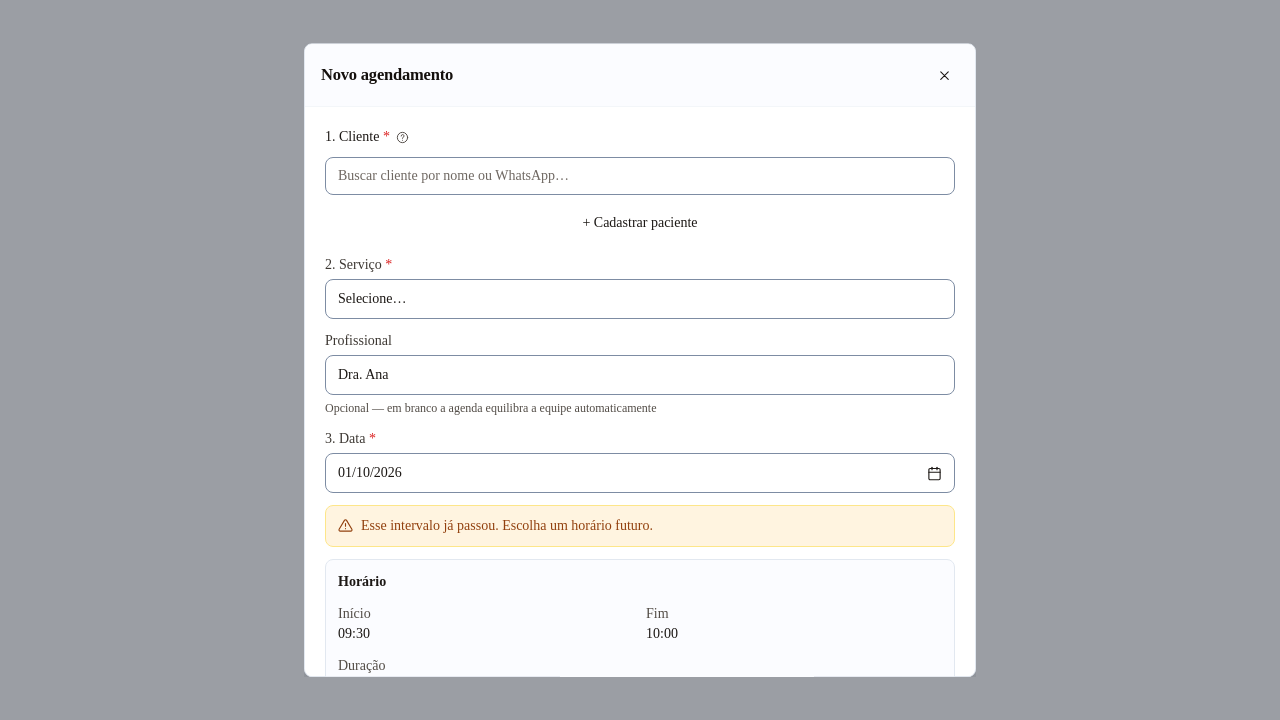
6 · viewport estreita: cadastro assume a faixa e o agendamento volta preservado › abrir o cadastro mantém o agendamento montado; fechar preserva data/hora/serviço/profissional
What coordinates should you click on to do the following:
click the dropdown labelled "2. Serviço *"
I would click on:
 (640, 299)
Its box is [338,280,942,318].
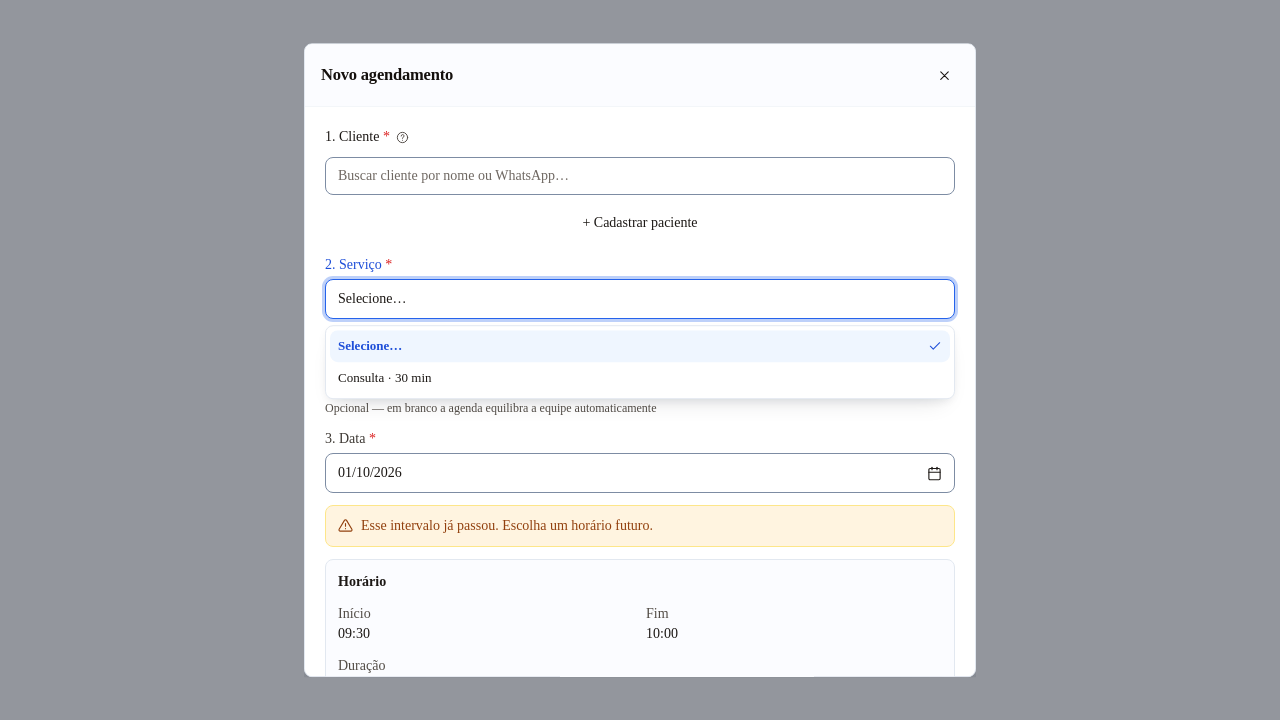
What coordinates should you click on to do the following:
click the option "Consulta · 30 min"
I would click on:
 (385, 378)
Its box is [330,362,950,394].
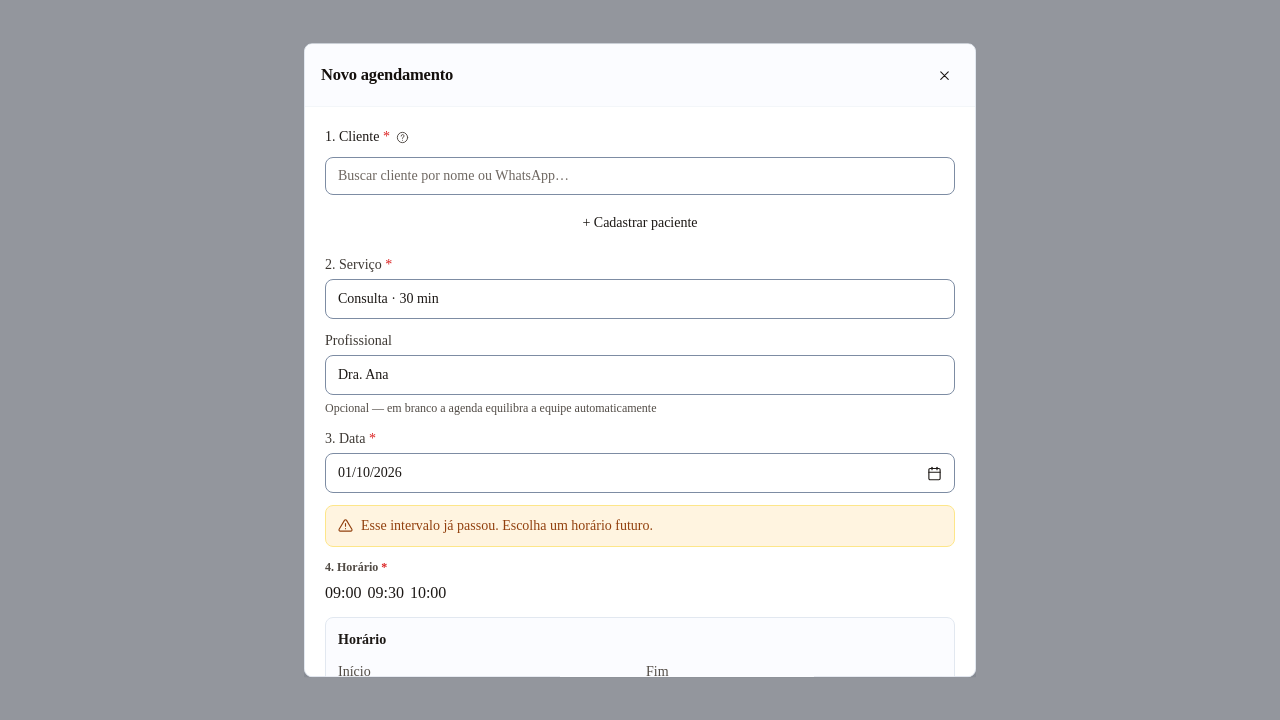
Expected: the dropdown labelled "Profissional" is shown, [338,356,942,394]
# Abre o cadastro DENTRO do mesmo overlay.
What coordinates should you click on to do the following:
click the button "+ Cadastrar paciente"
I would click on:
 (640, 223)
Its box is [325,203,955,243].
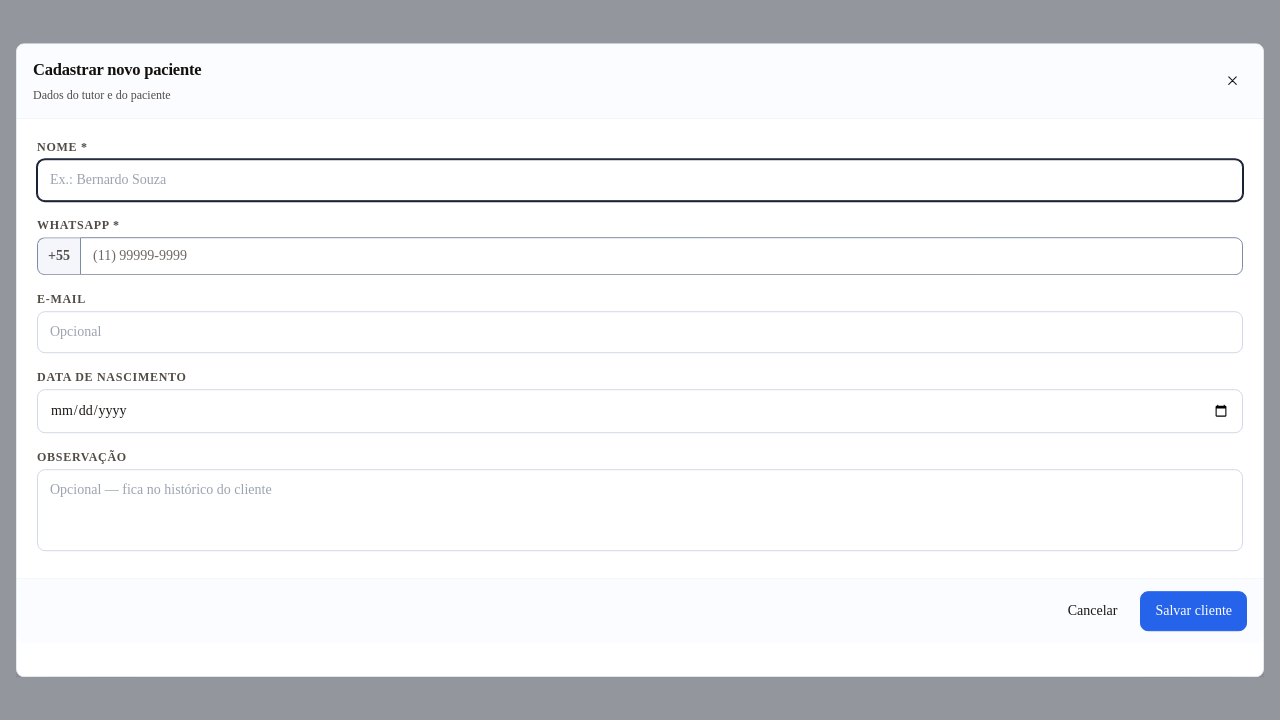
Expected: the element with class "il-drawer__panel--side" is shown
# Volta (cancelar o cadastro).
What coordinates should you click on to do the following:
click the button named "Voltar"
I would click on:
 (1232, 81)
Its box is [1215,64,1249,98].
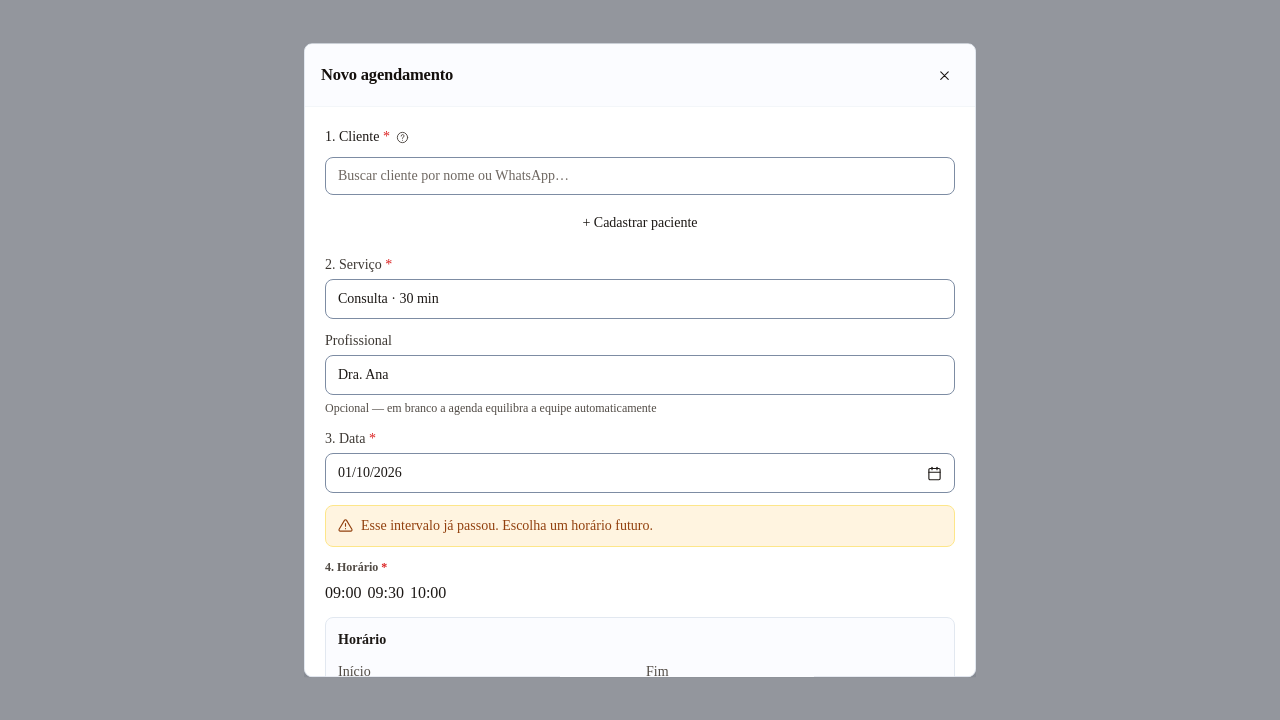
Expected: the element with class "il-drawer__panel--side" is gone
